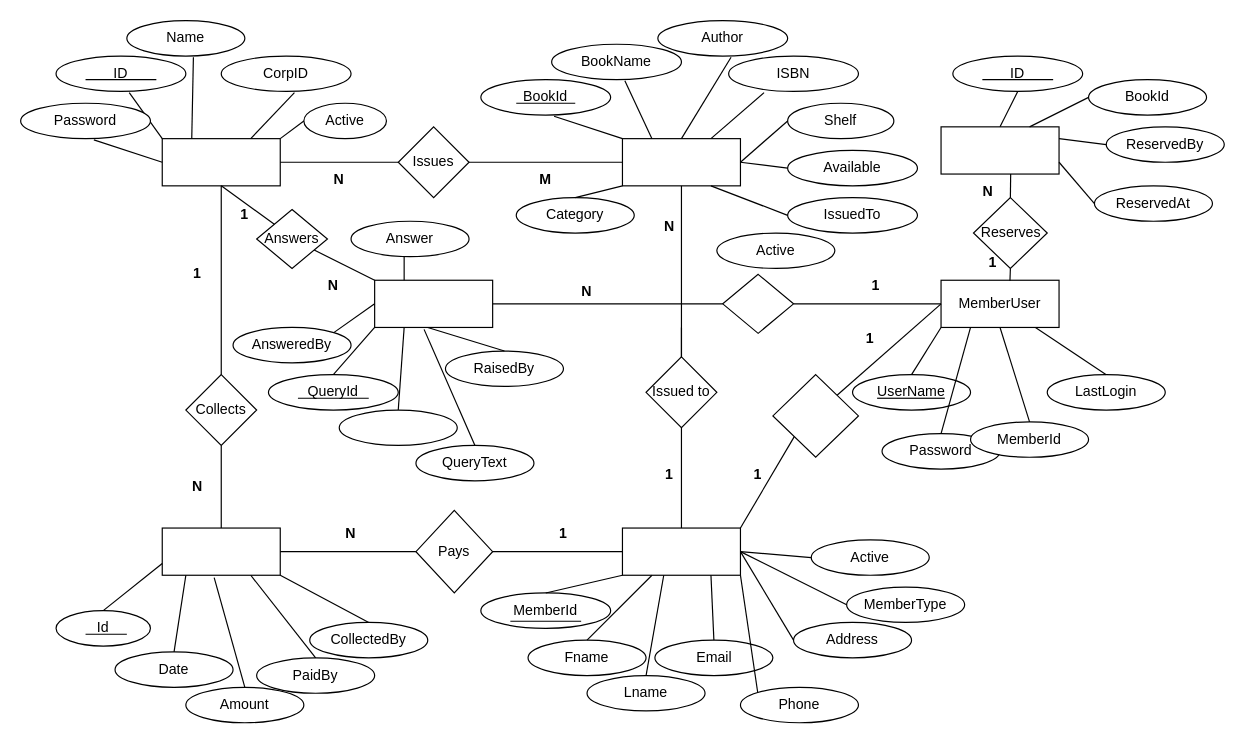
Some shapes in this 1245 by 743 pixel diagram are drawn without their labels. The shapes that lost their labels are listed below. From the top down, each one's centre as x and y in pixels, then its label:
At (x=220, y=161): "Librarian".
At (x=680, y=161): "Book".
At (x=999, y=150): "ReserveBook".
At (x=433, y=303): "Query".
At (x=758, y=303): "Raises".
At (x=397, y=427): "QuerySubject".
At (x=815, y=415): "Registers As".
At (x=220, y=551): "Fine".
At (x=680, y=551): "Member".
